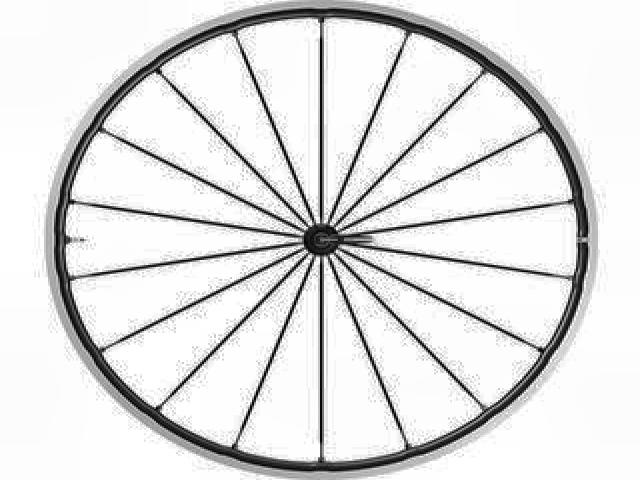wheel: (43, 1, 602, 478)
